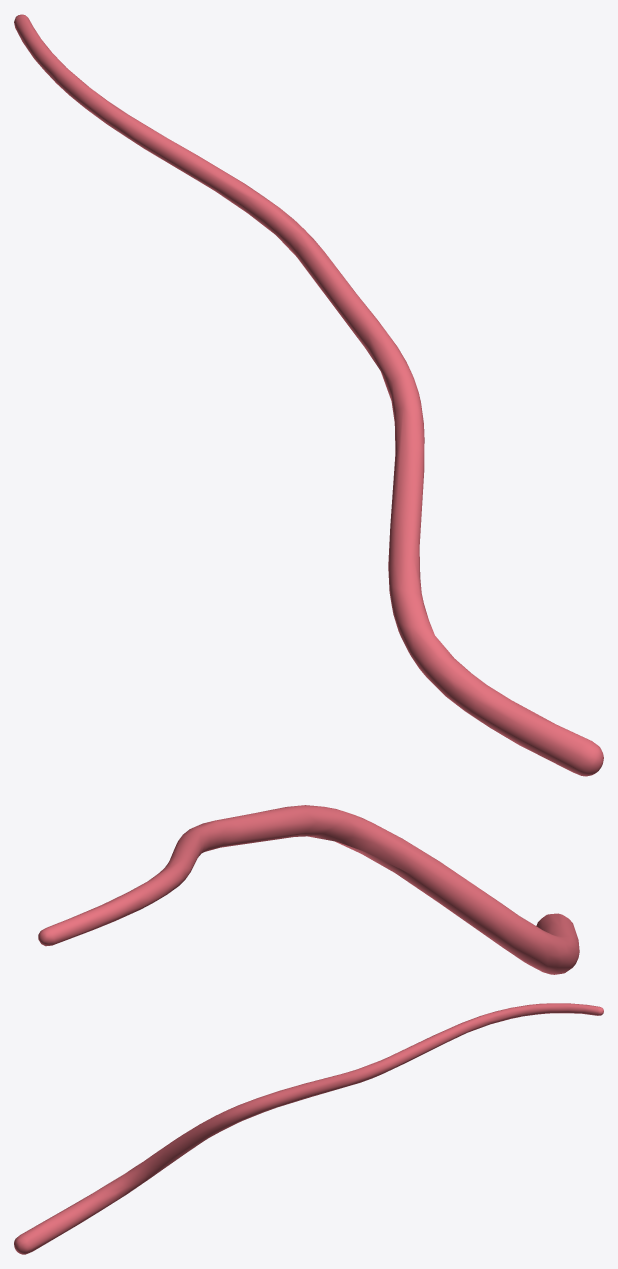
The model's file is fma15423_fj3112.glb.
3 views of the same model, one above another, from view 1: azimuth 30°, elevation 25°; view 2: azimuth 150°, elevation 25°; view 3: azimuth 270°, elevation 25° (orthographic). The views are drawn at different scales.
Parts seen in each view (by area): view 1: FMA15423_FJ3112; view 2: FMA15423_FJ3112; view 3: FMA15423_FJ3112.
Part boxes in pixels (bbox=[...]): FMA15423_FJ3112: bbox=[14, 14, 603, 776]; FMA15423_FJ3112: bbox=[38, 805, 579, 974]; FMA15423_FJ3112: bbox=[14, 1003, 603, 1254].
Bounding box in the file's own units: 0.00749 × 0.0263 × 0.0612.
